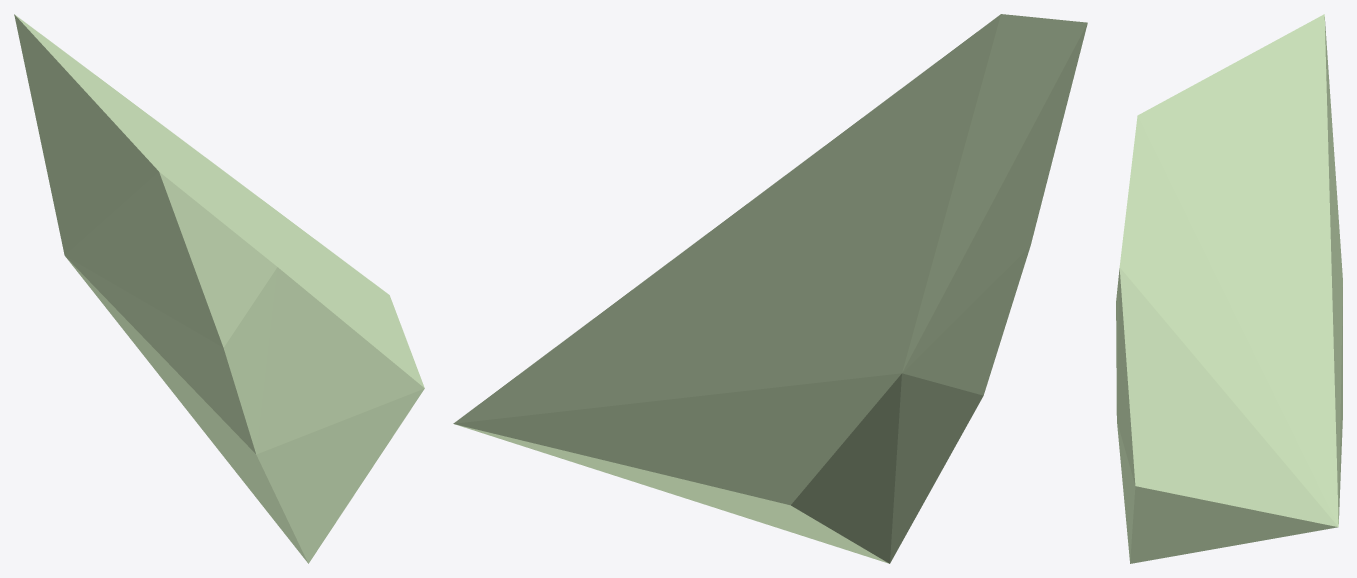
Rendered from kuka_robot_base_coll_13.dae.
3 renders of one model, left to right at view 1: azimuth 30°, elevation 25°; view 2: azimuth 150°, elevation 25°; view 3: azimuth 270°, elevation 25°, orthographic. The views are drawn at different scales.
Visible parts, largest first — view 1: Node_0000015C5C917280; view 2: Node_0000015C5C917280; view 3: Node_0000015C5C917280.
Part boxes in pixels (box(x1,y1,x2,y2)): Node_0000015C5C917280: box(14, 14, 424, 563); Node_0000015C5C917280: box(453, 14, 1087, 563); Node_0000015C5C917280: box(1116, 14, 1342, 563).
Bounding box in the file's own units: 0.023 × 0.0297 × 0.013.
